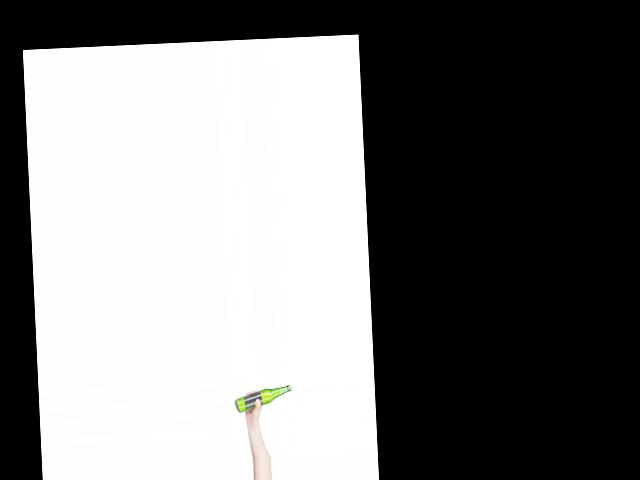beer: (233, 384, 293, 413)
